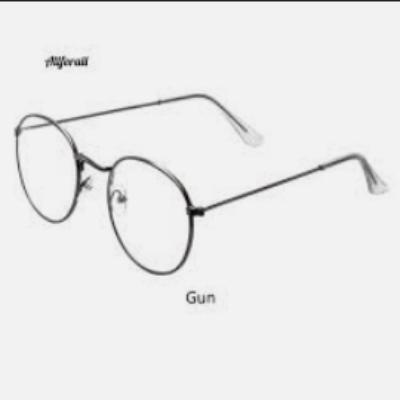glasses: (10, 90, 392, 283)
